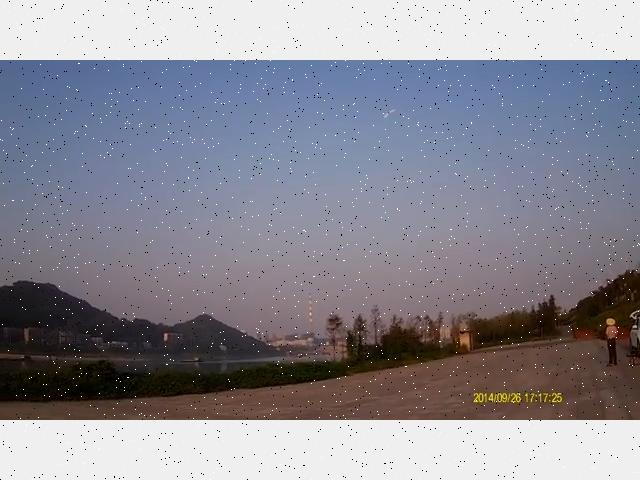Anti-Drone: (375, 108, 405, 126)
